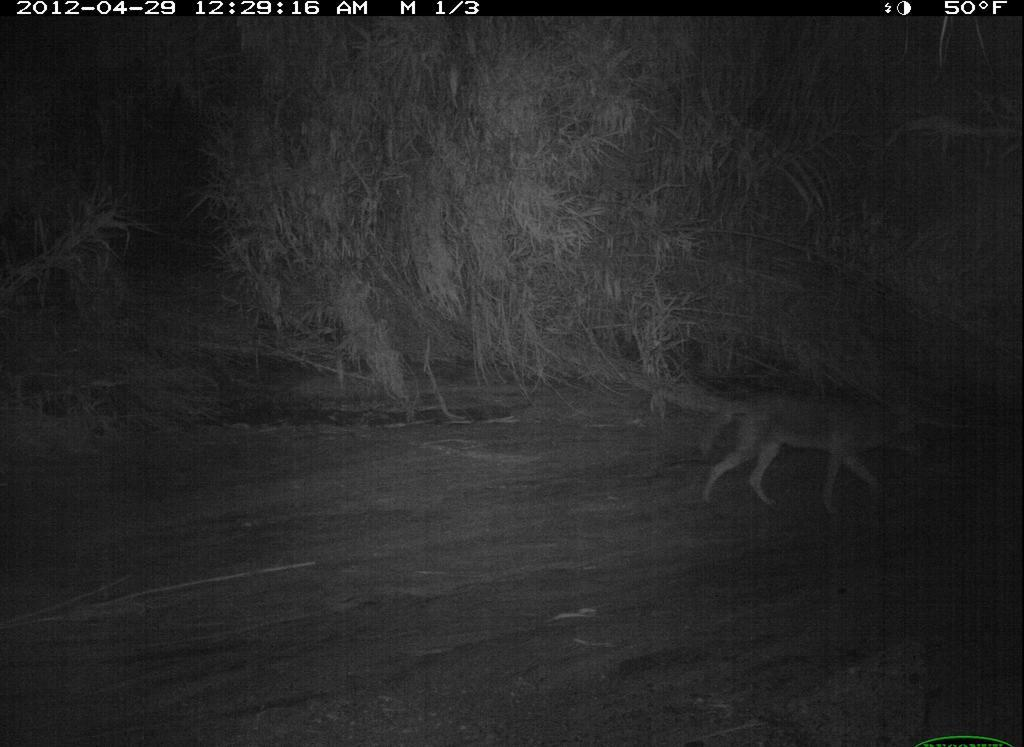coyote: (685, 382, 937, 532)
